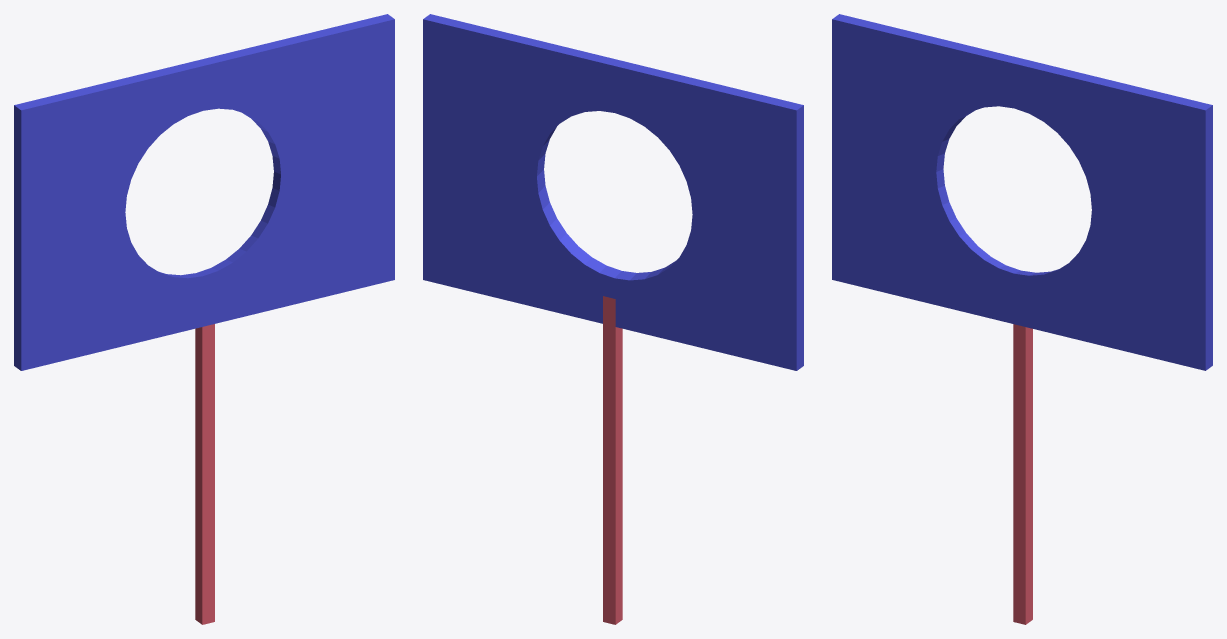
Rendered from Obstacle.fbx.
The picture shows the model from 3 angles, left to right: view 1: azimuth 30°, elevation 25°; view 2: azimuth 150°, elevation 25°; view 3: azimuth 330°, elevation 25°; orthographic projection.
Parts seen in each view (by area): view 1: Cube.001, Cube; view 2: Cube.001, Cube; view 3: Cube.001, Cube.
Part boxes in pixels (left/top/right/bottom): Cube.001: left=14, top=14, right=394, bottom=370; Cube: left=195, top=324, right=214, bottom=624; Cube.001: left=423, top=14, right=803, bottom=370; Cube: left=603, top=296, right=622, bottom=624; Cube.001: left=832, top=14, right=1212, bottom=370; Cube: left=1013, top=324, right=1032, bottom=624.
Bounding box in the file's own units: 600 × 857 × 20.
